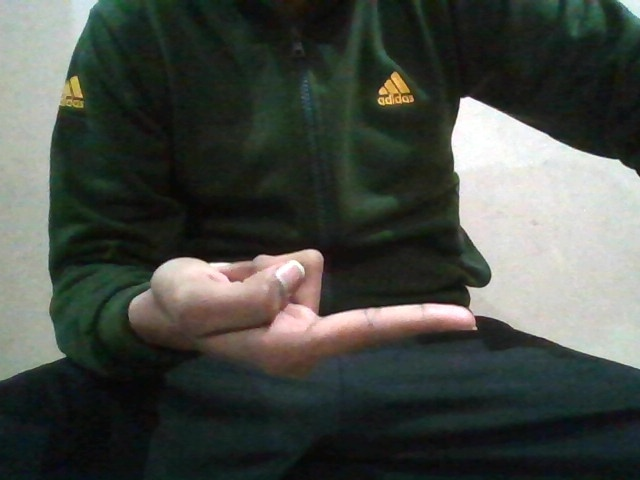X: (147, 247, 499, 386)
